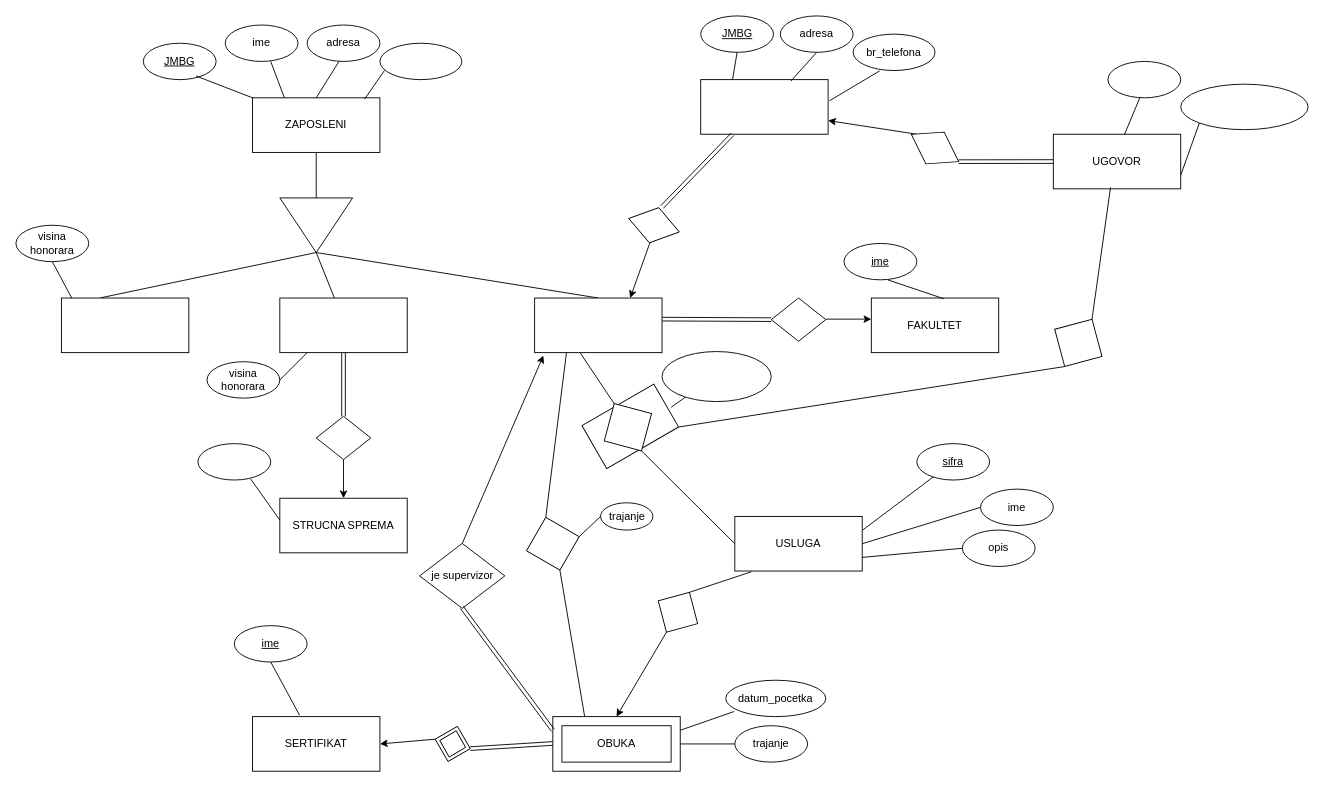
This 1324x787 diagram has some shape labels left out. The shapes that lost their labels are listed below. From the top down, each one's centre as x and y in pixels, then its label:
At (x=420, y=61): "br_ziro_racuna".
At (x=1144, y=79): "id".
At (x=764, y=106): "PACIENT".
At (x=1244, y=106): "datum_zakljucenja".
At (x=316, y=225): "IS A".
At (x=125, y=325): "RADNICI NA ODRZAVANJU".
At (x=343, y=325): "ADMINISTRATIVNO OSOBLJE".
At (x=598, y=325): "DOKTORI".
At (x=716, y=376): "br_godina_iskustva".
At (x=627, y=427): "pruza".
At (x=234, y=461): "stepen".
At (x=552, y=543): "vrsi".
